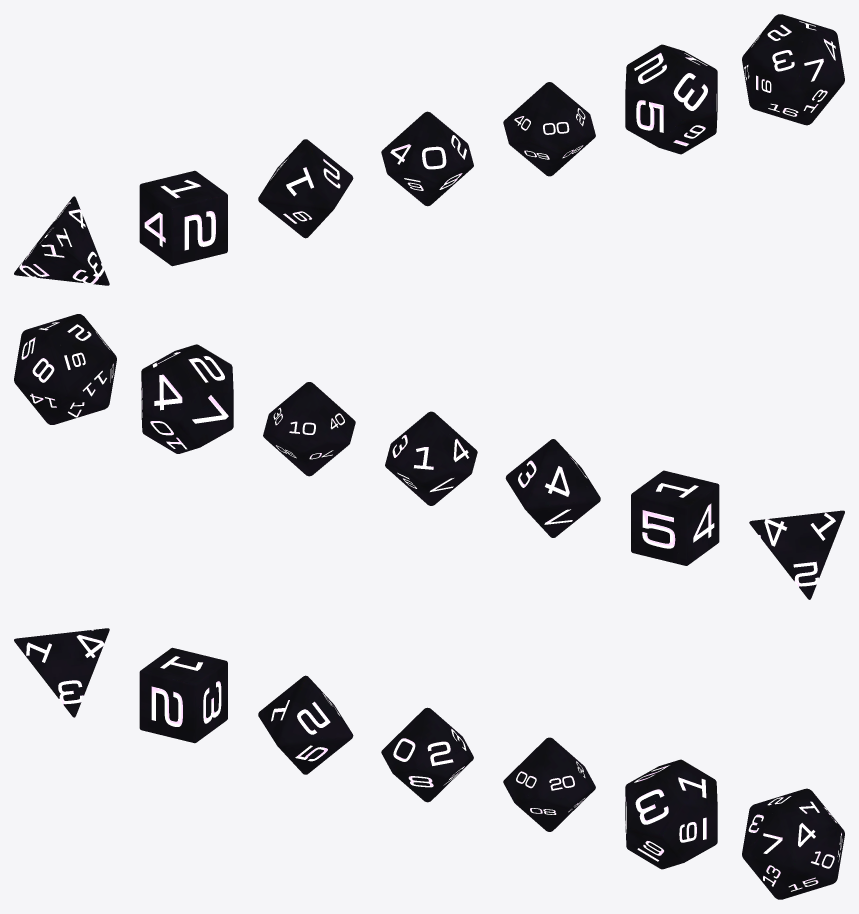
The model's file is void.glb.
3 renders of one model, top to bottom at view 1: azimuth 30°, elevation 25°; view 2: azimuth 150°, elevation 25°; view 3: azimuth 330°, elevation 25°, orthographic.
Parts seen in each view (by area): view 1: d20, d12, d6, d100, d10, d8, d4; view 2: d20, d12, d6, d100, d10, d8, d4; view 3: d20, d12, d6, d8, d100, d10, d4.
Part boxes in pixels (left/top/right/bottom): d20: left=742, top=14, right=844, bottom=125; d12: left=625, top=44, right=717, bottom=154; d6: left=139, top=170, right=227, bottom=266; d100: left=503, top=82, right=595, bottom=176; d10: left=381, top=111, right=473, bottom=206; d8: left=258, top=139, right=353, bottom=238; d4: left=14, top=196, right=109, bottom=285; d20: left=14, top=314, right=116, bottom=424; d12: left=141, top=344, right=233, bottom=453; d6: left=631, top=470, right=719, bottom=565; d100: left=263, top=382, right=355, bottom=476; d10: left=385, top=411, right=477, bottom=505; d8: left=505, top=439, right=600, bottom=537; d4: left=749, top=510, right=844, bottom=599; d20: left=742, top=788, right=844, bottom=899; d12: left=625, top=759, right=717, bottom=869; d6: left=139, top=647, right=227, bottom=743; d8: left=258, top=675, right=353, bottom=774; d100: left=503, top=737, right=595, bottom=831; d10: left=381, top=707, right=473, bottom=802; d4: left=14, top=628, right=109, bottom=717.
Size of the model in its own units: 21.14 by 2.47 by 2.47.
Materials: 14 (7 with a texture image).
